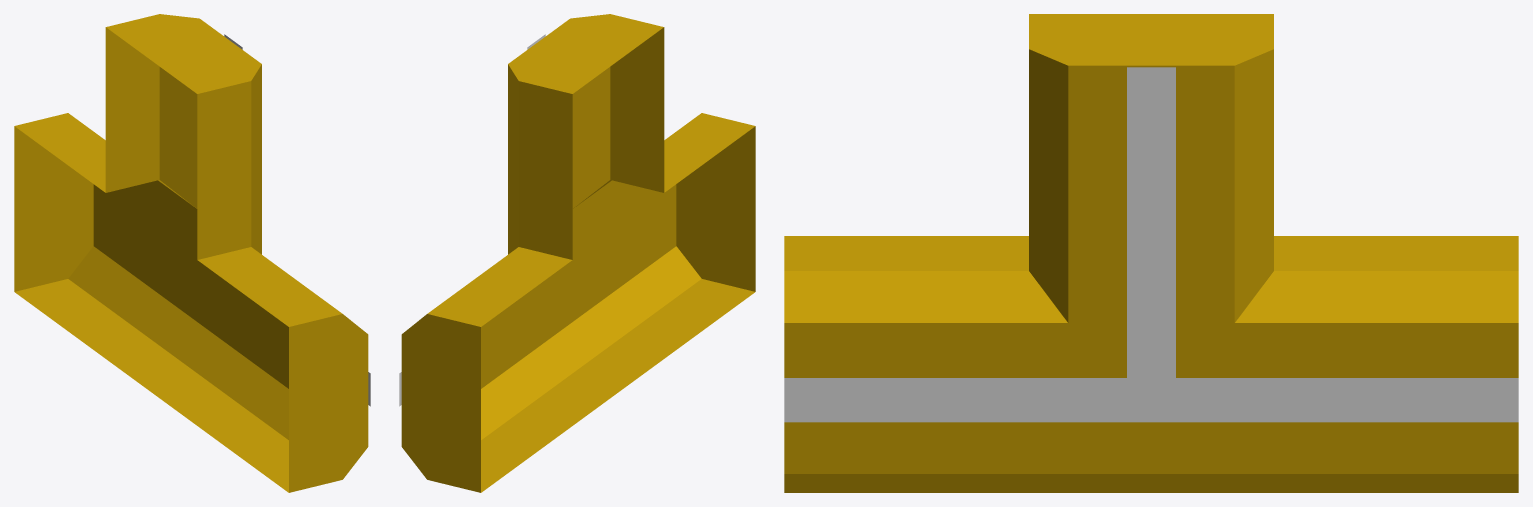
Rendered from EL_Panel_Wire_T.fbx.
3 renders of one model, left to right at view 1: azimuth 30°, elevation 25°; view 2: azimuth 150°, elevation 25°; view 3: azimuth 270°, elevation 25°, orthographic. The views are drawn at different scales.
Visible parts, largest first — view 1: Electrical_Panel_Switch_T.005; view 2: Electrical_Panel_Switch_T.005; view 3: Electrical_Panel_Switch_T.005.
Part boxes in pixels (x1,y1,x2,y2): Electrical_Panel_Switch_T.005: (14,14,370,492); Electrical_Panel_Switch_T.005: (399,14,755,492); Electrical_Panel_Switch_T.005: (784,14,1518,492).
Size of the model in its own units: 2.58 by 10 by 15.
